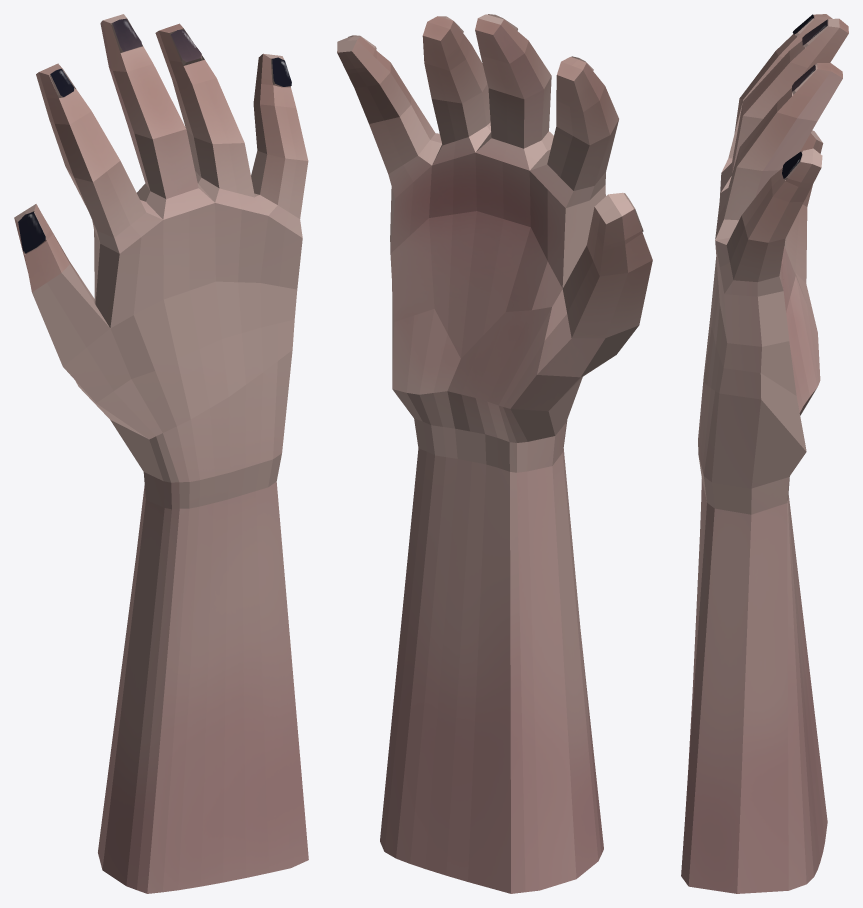
The model's file is Hand01.fbx.
3 renders of one model, left to right at view 1: azimuth 30°, elevation 25°; view 2: azimuth 150°, elevation 25°; view 3: azimuth 270°, elevation 25°, orthographic. The views are drawn at different scales.
Visible parts, largest first — view 1: Hand; view 2: Hand; view 3: Hand.
Boxes of the visible parts, x1,y1,x2,y2 form: Hand: (14,14,308,893); Hand: (337,14,652,893); Hand: (681,14,848,893).
Size of the model in its own units: 306 by 877 by 165.
1 material, 1 textured.
